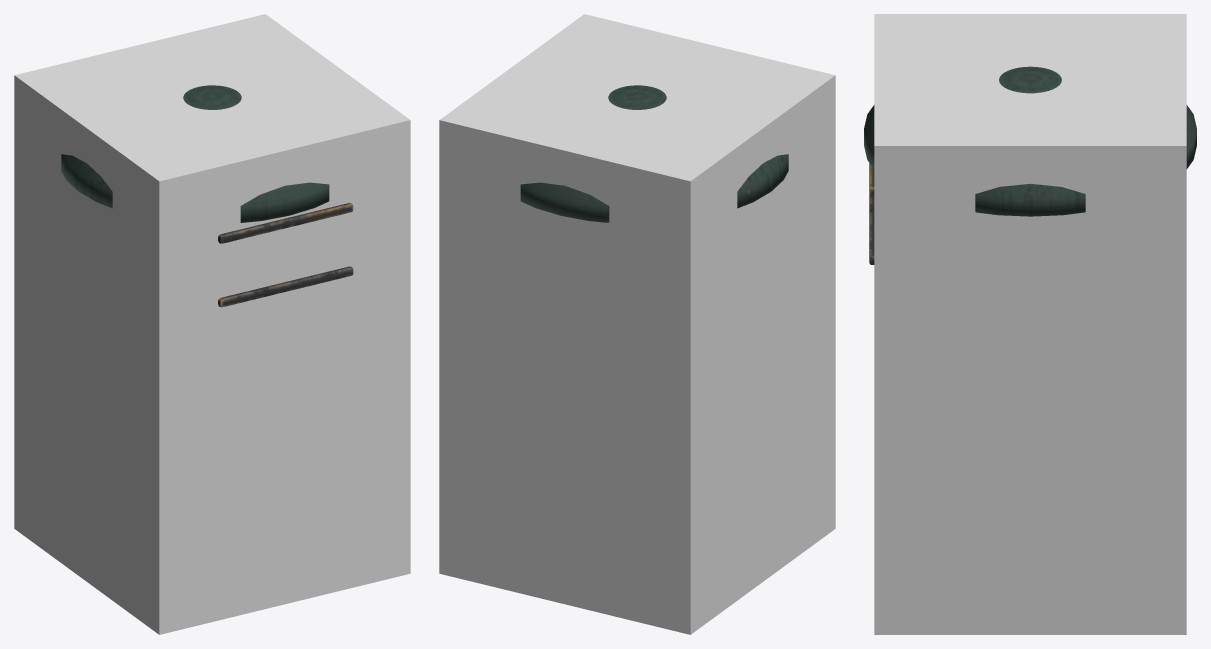
The model's file is p8_bin.glb.
3 renders of one model, left to right at view 1: azimuth 30°, elevation 25°; view 2: azimuth 150°, elevation 25°; view 3: azimuth 270°, elevation 25°, orthographic. The views are drawn at different scales.
Visible parts, largest first — view 1: p8_bin_COL, p8_bin_LOD0; view 2: p8_bin_COL, p8_bin_LOD0; view 3: p8_bin_COL, p8_bin_LOD0.
Part boxes in pixels (x1,y1,x2,y2): p8_bin_COL: [14, 14, 410, 634]; p8_bin_LOD0: [61, 85, 353, 307]; p8_bin_COL: [439, 14, 835, 634]; p8_bin_LOD0: [520, 85, 788, 222]; p8_bin_COL: [874, 14, 1186, 634]; p8_bin_LOD0: [864, 66, 1196, 264].
Size of what is drawn, in the model's own units: 0.66 by 1.08 by 0.66.
Materials: 1 (1 with a texture image).
